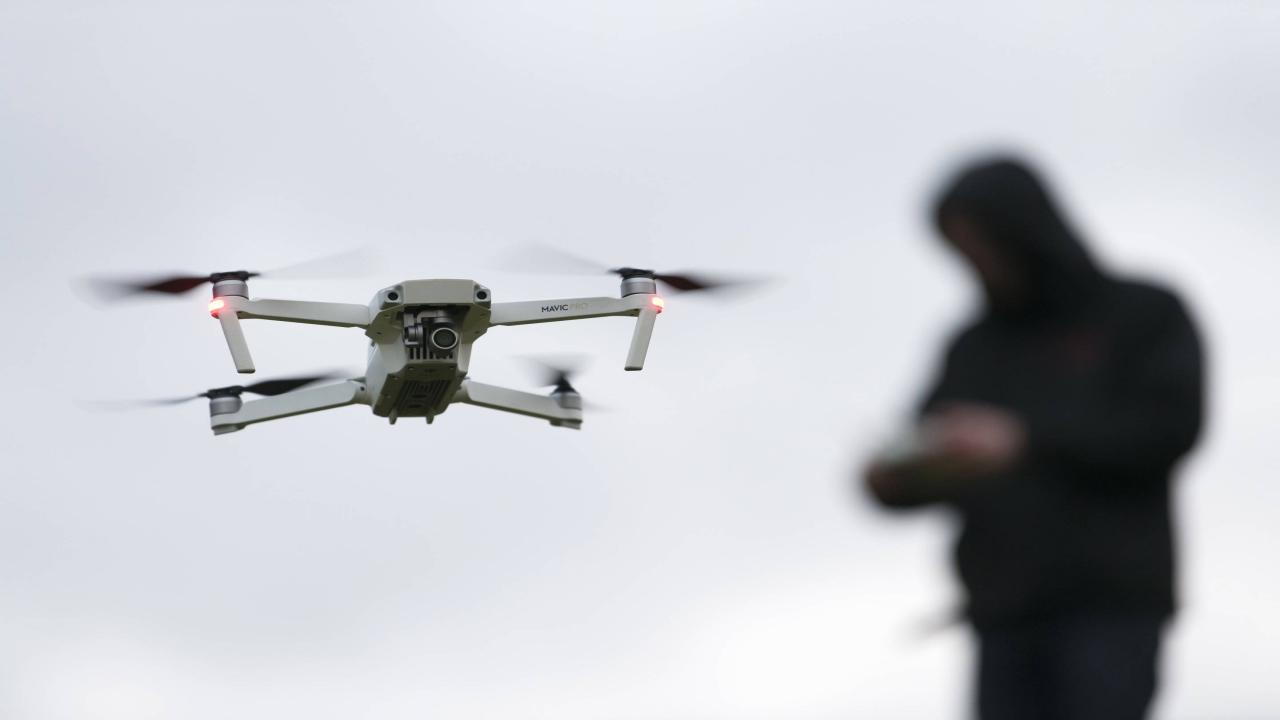Drone: (54, 226, 786, 448)
